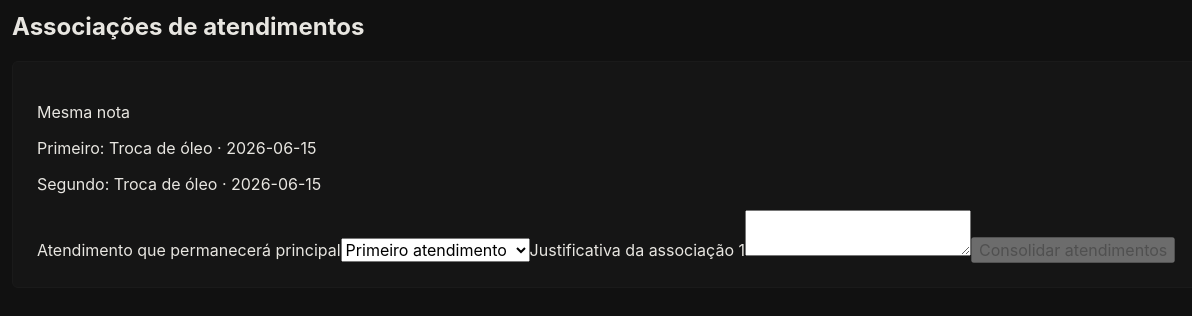
Test: resolves an explicit association using both displayed revisions
Expected: the text "Mesma nota" is shown, left=37, top=102, right=130, bottom=122
Step 1. Type "Comprovantes conferidos" into the text box labelled "Justificativa da associação 1" → (858,233), box left=745, top=210, right=971, bottom=256
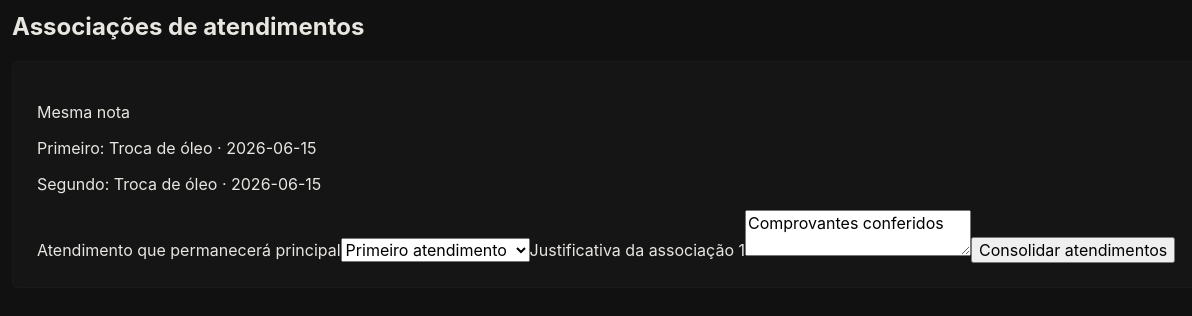
Step 2. Click the button "Consolidar atendimentos" → (1073,250), box left=971, top=237, right=1175, bottom=263
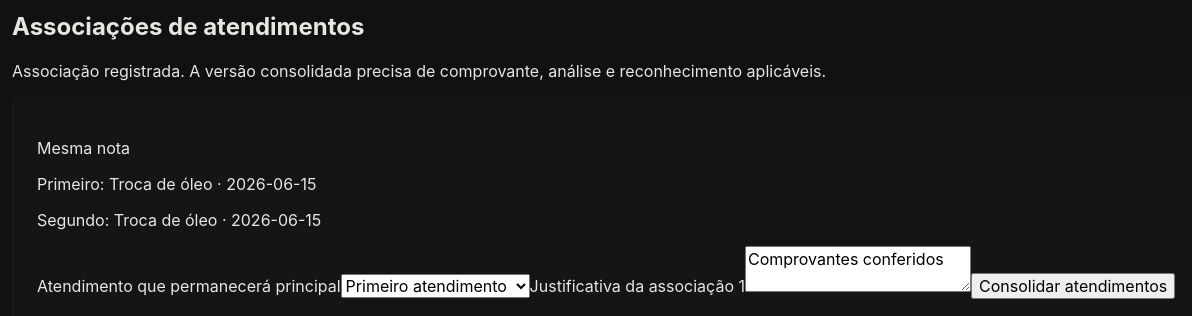
Expected: the text "Associação registrada" is shown, left=12, top=61, right=826, bottom=81
